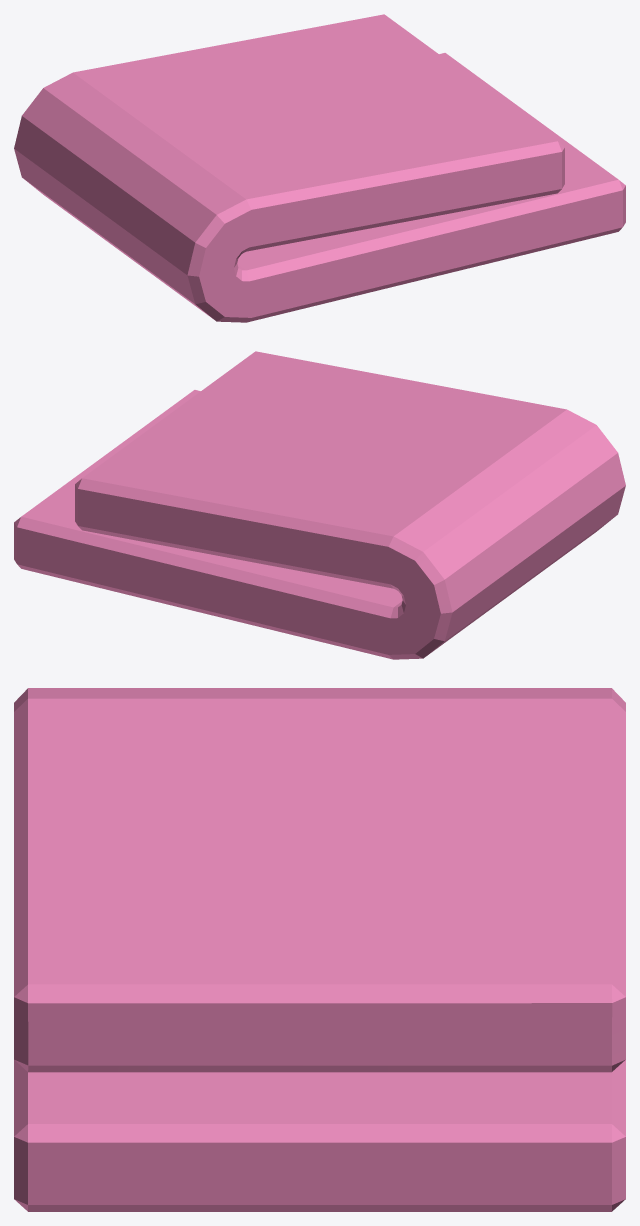
Rendered from towel5.fbx.
3 views of the same model, one above another, from view 1: azimuth 30°, elevation 25°; view 2: azimuth 150°, elevation 25°; view 3: azimuth 270°, elevation 25° (orthographic). The views are drawn at different scales.
Parts seen in each view (by area): view 1: towel5; view 2: towel5; view 3: towel5.
Part boxes in pixels (x1=…): towel5: x1=14, y1=14, x2=625, y2=322; towel5: x1=14, y1=351, x2=625, y2=659; towel5: x1=14, y1=688, x2=625, y2=1211.
Bounding box in the file's own units: 2.24 × 0.6011 × 1.61.
